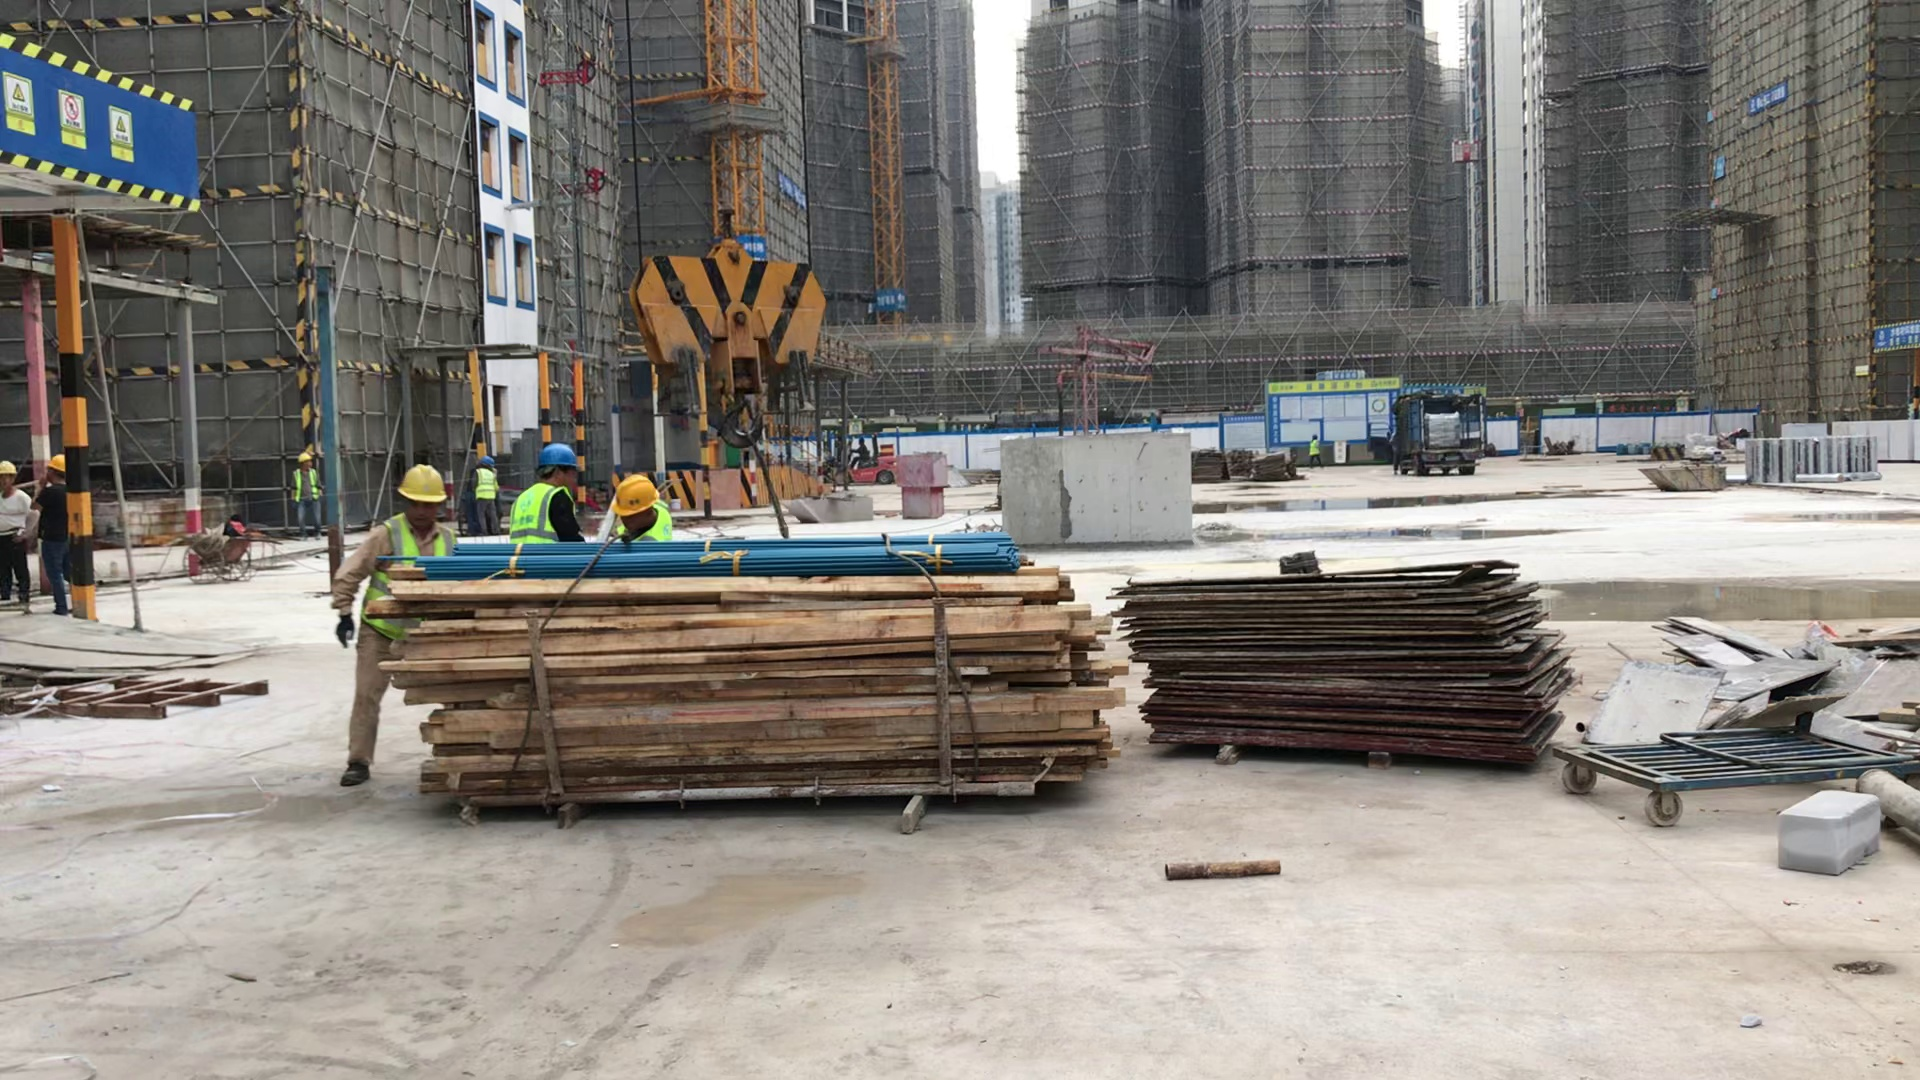board: (1113, 563, 1563, 773)
brick: (1782, 421, 1920, 470)
handcart: (1548, 726, 1920, 812), (168, 520, 284, 590)
helmet: (608, 474, 662, 517), (397, 464, 447, 507), (535, 439, 579, 472), (46, 450, 70, 478), (1, 457, 24, 484), (477, 453, 498, 470)
hook: (632, 235, 844, 454)
hopper: (1638, 459, 1731, 499), (779, 490, 882, 522)
person: (327, 462, 455, 795), (511, 440, 585, 547), (36, 452, 77, 623), (598, 470, 675, 548), (1, 448, 35, 617), (285, 445, 330, 545), (468, 455, 502, 537), (847, 438, 871, 471)
slogan: (1, 68, 138, 173), (1741, 69, 1791, 125), (768, 166, 812, 213), (870, 289, 908, 316), (1707, 152, 1727, 187)
vest: (373, 515, 450, 661), (509, 481, 564, 546), (614, 515, 681, 550), (291, 467, 323, 502), (473, 467, 501, 503)
wood: (384, 557, 1121, 815)
